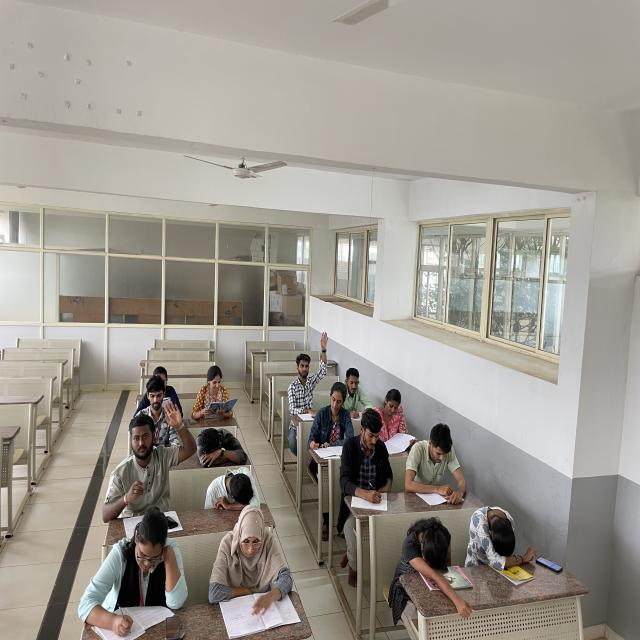Hand Rising: (90, 391, 192, 506), (278, 288, 334, 432)
Reading: (200, 500, 313, 640), (397, 394, 483, 518), (186, 355, 245, 425)
Sleeping: (375, 514, 475, 634), (464, 502, 548, 585), (189, 458, 286, 516), (186, 426, 252, 466)
Writing: (73, 505, 197, 640), (334, 406, 401, 533)
